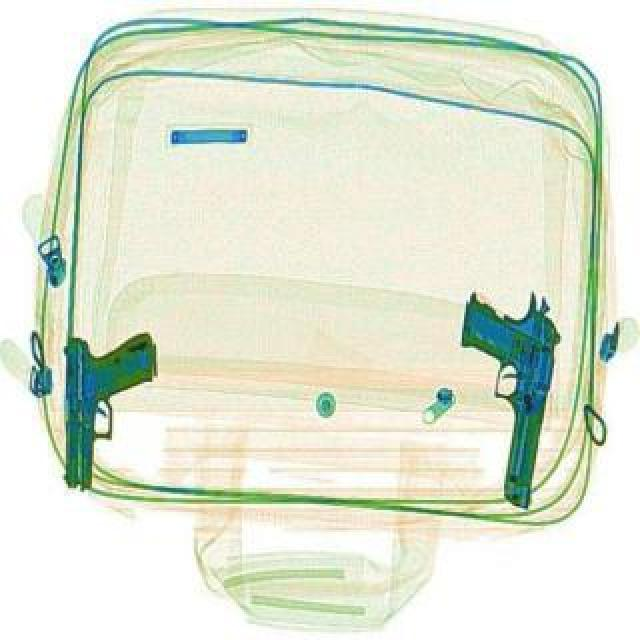gun: (430, 280, 566, 508), (60, 328, 158, 490)
